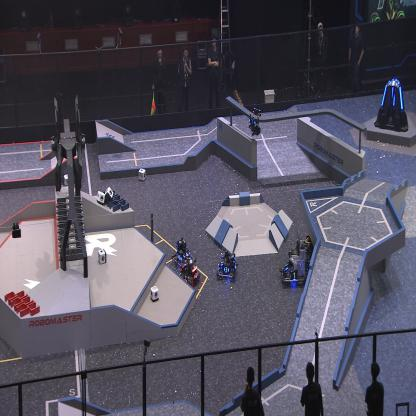car: (280, 235, 317, 286), (178, 256, 200, 288), (216, 249, 237, 280), (172, 238, 191, 266)
